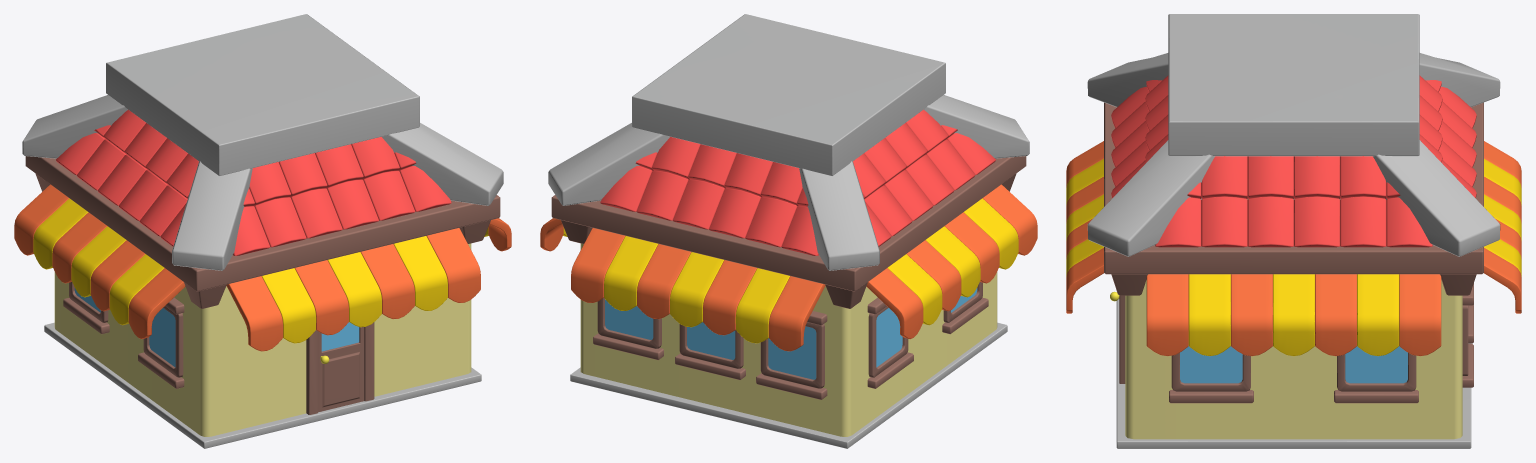
File: Store_16_Bar_1.glb
3 views of the same model, side by side, from view 1: azimuth 30°, elevation 25°; view 2: azimuth 150°, elevation 25°; view 3: azimuth 270°, elevation 25° (orthographic). The views are drawn at different scales.
Visible parts, largest first — view 1: Store_16_Bar_1; view 2: Store_16_Bar_1; view 3: Store_16_Bar_1.
Part boxes in pixels (x1,y1,x2,y2): Store_16_Bar_1: [14, 14, 511, 448]; Store_16_Bar_1: [540, 14, 1037, 448]; Store_16_Bar_1: [1066, 14, 1521, 448].
Bounding box in the file's own units: 9.34 × 6.8 × 9.14.
Materials: 1 (1 with a texture image).
